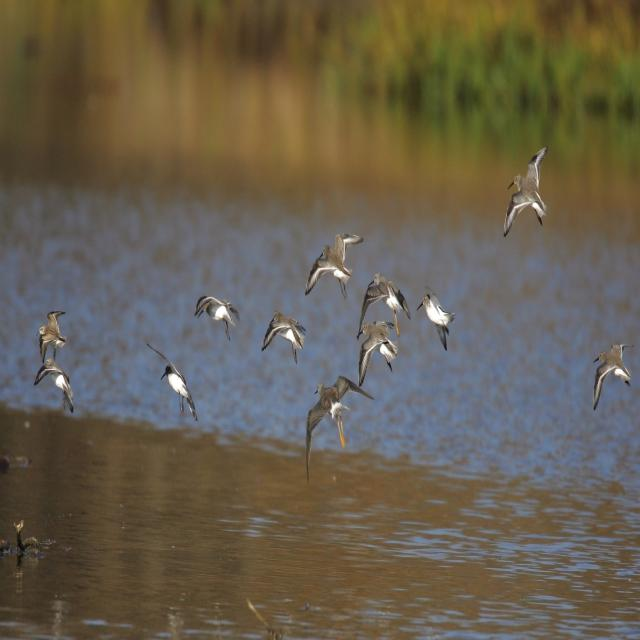bird: (301, 374, 373, 454), (503, 146, 550, 240), (302, 233, 362, 298), (589, 336, 635, 416), (148, 353, 200, 421), (356, 311, 402, 383), (33, 357, 77, 413), (419, 289, 460, 348), (262, 309, 308, 359), (0, 520, 45, 570), (360, 271, 408, 315), (194, 296, 241, 340), (36, 306, 69, 350)
